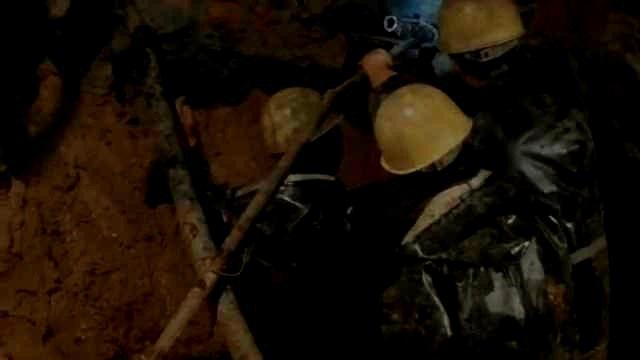helmet: (374, 83, 473, 183), (260, 85, 344, 169), (437, 1, 527, 77)
